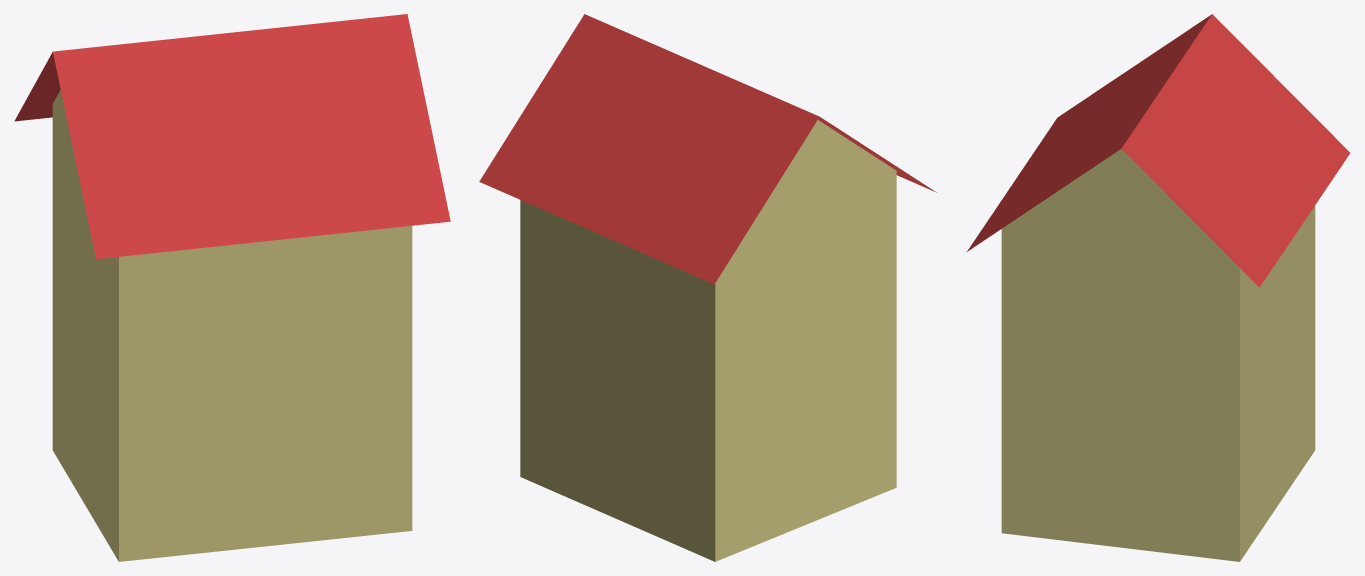
3 renders of one model, left to right at view 1: azimuth 30°, elevation 25°; view 2: azimuth 150°, elevation 25°; view 3: azimuth 270°, elevation 25°, orthographic. The views are drawn at different scales.
Size of the model in its own units: 7.04 by 6.72 by 7.94.
